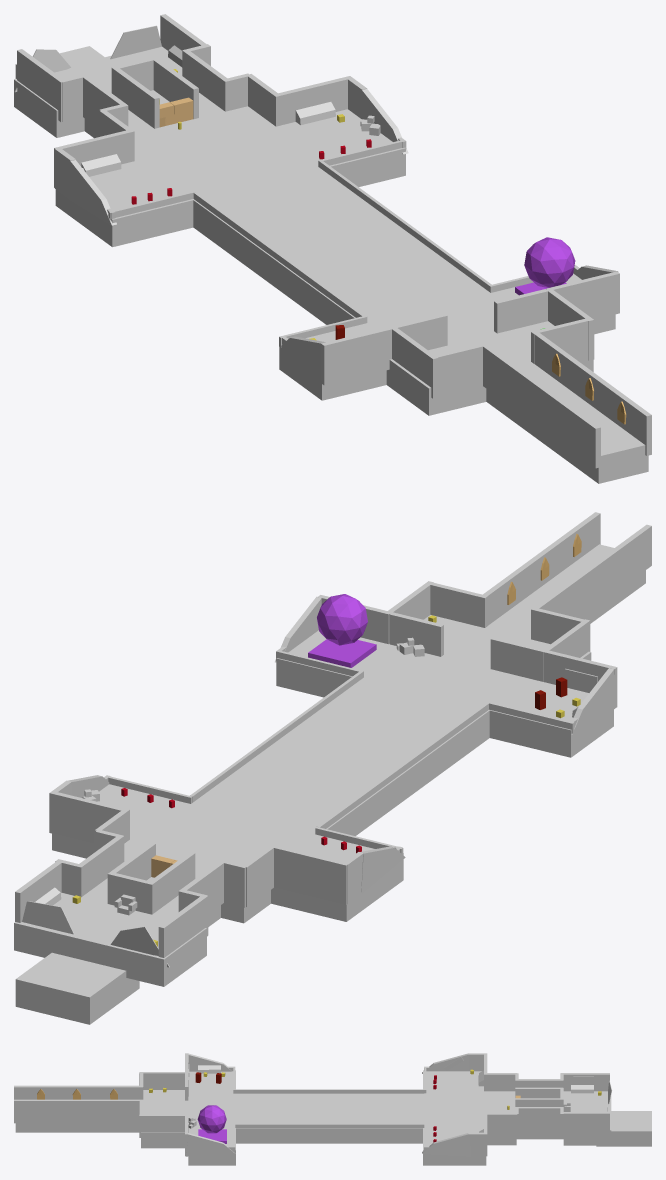
The model's file is BlockoutLvl2Zone3fbx.fbx.
3 renders of one model, top to bottom at view 1: azimuth 30°, elevation 25°; view 2: azimuth 150°, elevation 25°; view 3: azimuth 270°, elevation 25°, orthographic. The views are drawn at different scales.
Visible parts, largest first — view 1: CorridorTyranids1_lvl2_lvl2_lvl2_lvl2, LittleFightRoom2_lvl2_lvl2_lvl2_lvl2, LittleFightRoom1_lvl2_lvl2_lvl2_lvl2, LittleRoom2.099_lvl2_lvl2_lvl2_lvl2, Long CorridorTyranids1_lvl2_lvl2_lvl2_lvl2, LittleFightRoom1.001_lvl2_lvl2_lvl2_lvl2, LittleRoom2.098_lvl2_lvl2_lvl2_lvl2, Gun Room 1.001_lvl2_lvl2_lvl2_lvl2, FightRoom1_lvl2_lvl2_lvl2_lvl2, LittleRoom2.104_lvl2_lvl2_lvl2_lvl2, LittleRoom2.105_lvl2_lvl2_lvl2_lvl2, Icosphere_lvl2_lvl2_lvl2_lvl2 (+28 smaller); view 2: CorridorTyranids1_lvl2_lvl2_lvl2_lvl2, LittleFightRoom1_lvl2_lvl2_lvl2_lvl2, LittleFightRoom2_lvl2_lvl2_lvl2_lvl2, Gun Room 1.001_lvl2_lvl2_lvl2_lvl2, Gun Room 1.002_lvl2_lvl2_lvl2_lvl2, LittleRoom2.099_lvl2_lvl2_lvl2_lvl2, LittleRoom2.098_lvl2_lvl2_lvl2_lvl2, LittleRoom2.111_lvl2_lvl2_lvl2_lvl2, Long CorridorTyranids1_lvl2_lvl2_lvl2_lvl2, LittleFightRoom1.001_lvl2_lvl2_lvl2_lvl2, LittleRoom2.110_lvl2_lvl2_lvl2_lvl2, Icosphere_lvl2_lvl2_lvl2_lvl2 (+29 smaller); view 3: CorridorTyranids1_lvl2_lvl2_lvl2_lvl2, LittleFightRoom2_lvl2_lvl2_lvl2_lvl2, LittleRoom2.098_lvl2_lvl2_lvl2_lvl2, LittleFightRoom1_lvl2_lvl2_lvl2_lvl2, LittleFightRoom1.001_lvl2_lvl2_lvl2_lvl2, LittleRoom2.099_lvl2_lvl2_lvl2_lvl2, Gun Room 1.002_lvl2_lvl2_lvl2_lvl2, Gun Room 1.001_lvl2_lvl2_lvl2_lvl2, Long CorridorTyranids1_lvl2_lvl2_lvl2_lvl2, LittleRoom2.121_lvl2_lvl2_lvl2_lvl2, LittleRoom2.119_lvl2_lvl2_lvl2_lvl2, Cube.020_lvl2_lvl2_lvl2_lvl2 (+21 smaller).
Boxes of the visible parts, x1=… form: CorridorTyranids1_lvl2_lvl2_lvl2_lvl2: x1=193, y1=169, x2=496, y2=325; LittleFightRoom2_lvl2_lvl2_lvl2_lvl2: x1=55, y1=109, x2=405, y2=247; LittleFightRoom1_lvl2_lvl2_lvl2_lvl2: x1=279, y1=273, x2=615, y2=400; LittleRoom2.099_lvl2_lvl2_lvl2_lvl2: x1=480, y1=343, x2=600, y2=468; Long CorridorTyranids1_lvl2_lvl2_lvl2_lvl2: x1=486, y1=363, x2=648, y2=483; LittleFightRoom1.001_lvl2_lvl2_lvl2_lvl2: x1=386, y1=321, x2=593, y2=415; LittleRoom2.098_lvl2_lvl2_lvl2_lvl2: x1=532, y1=330, x2=651, y2=455; Gun Room 1.001_lvl2_lvl2_lvl2_lvl2: x1=14, y1=46, x2=182, y2=137; FightRoom1_lvl2_lvl2_lvl2_lvl2: x1=134, y1=106, x2=273, y2=159; LittleRoom2.104_lvl2_lvl2_lvl2_lvl2: x1=321, y1=326, x2=392, y2=385; LittleRoom2.105_lvl2_lvl2_lvl2_lvl2: x1=546, y1=271, x2=619, y2=319; Icosphere_lvl2_lvl2_lvl2_lvl2: x1=524, y1=237, x2=575, y2=287; CorridorTyranids1_lvl2_lvl2_lvl2_lvl2: x1=194, y1=676, x2=489, y2=836; LittleFightRoom1_lvl2_lvl2_lvl2_lvl2: x1=276, y1=630, x2=613, y2=757; LittleFightRoom2_lvl2_lvl2_lvl2_lvl2: x1=52, y1=784, x2=403, y2=921; Gun Room 1.001_lvl2_lvl2_lvl2_lvl2: x1=14, y1=893, x2=206, y2=986; Gun Room 1.002_lvl2_lvl2_lvl2_lvl2: x1=15, y1=952, x2=139, y2=1024; LittleRoom2.099_lvl2_lvl2_lvl2_lvl2: x1=531, y1=524, x2=651, y2=618; LittleRoom2.098_lvl2_lvl2_lvl2_lvl2: x1=480, y1=512, x2=600, y2=625; LittleRoom2.111_lvl2_lvl2_lvl2_lvl2: x1=271, y1=845, x2=348, y2=905; Long CorridorTyranids1_lvl2_lvl2_lvl2_lvl2: x1=487, y1=544, x2=645, y2=637; LittleFightRoom1.001_lvl2_lvl2_lvl2_lvl2: x1=389, y1=615, x2=591, y2=668; LittleRoom2.110_lvl2_lvl2_lvl2_lvl2: x1=49, y1=791, x2=128, y2=843; Icosphere_lvl2_lvl2_lvl2_lvl2: x1=317, y1=594, x2=367, y2=645; CorridorTyranids1_lvl2_lvl2_lvl2_lvl2: x1=231, y1=1092, x2=422, y2=1143; LittleFightRoom2_lvl2_lvl2_lvl2_lvl2: x1=423, y1=1070, x2=486, y2=1165; LittleRoom2.098_lvl2_lvl2_lvl2_lvl2: x1=14, y1=1099, x2=142, y2=1123; LittleFightRoom1_lvl2_lvl2_lvl2_lvl2: x1=188, y1=1070, x2=235, y2=1165; LittleFightRoom1.001_lvl2_lvl2_lvl2_lvl2: x1=141, y1=1090, x2=184, y2=1148; LittleRoom2.099_lvl2_lvl2_lvl2_lvl2: x1=14, y1=1085, x2=142, y2=1099; Gun Room 1.002_lvl2_lvl2_lvl2_lvl2: x1=596, y1=1111, x2=651, y2=1146; Gun Room 1.001_lvl2_lvl2_lvl2_lvl2: x1=563, y1=1091, x2=611, y2=1145; Long CorridorTyranids1_lvl2_lvl2_lvl2_lvl2: x1=15, y1=1123, x2=139, y2=1132; LittleRoom2.121_lvl2_lvl2_lvl2_lvl2: x1=563, y1=1112, x2=609, y2=1135; LittleRoom2.119_lvl2_lvl2_lvl2_lvl2: x1=516, y1=1107, x2=562, y2=1130; Cube.020_lvl2_lvl2_lvl2_lvl2: x1=233, y1=1089, x2=424, y2=1093.
Size of the model in its own units: 8047 by 2722 by 26691.
